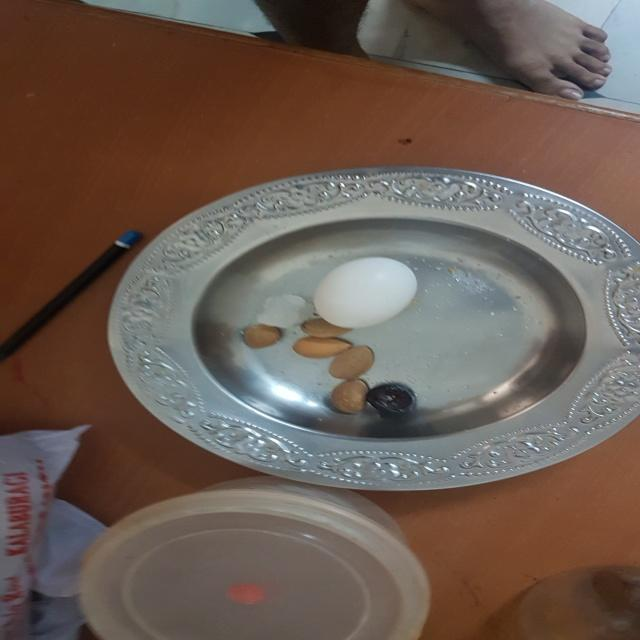eggs: (311, 255, 415, 328)
